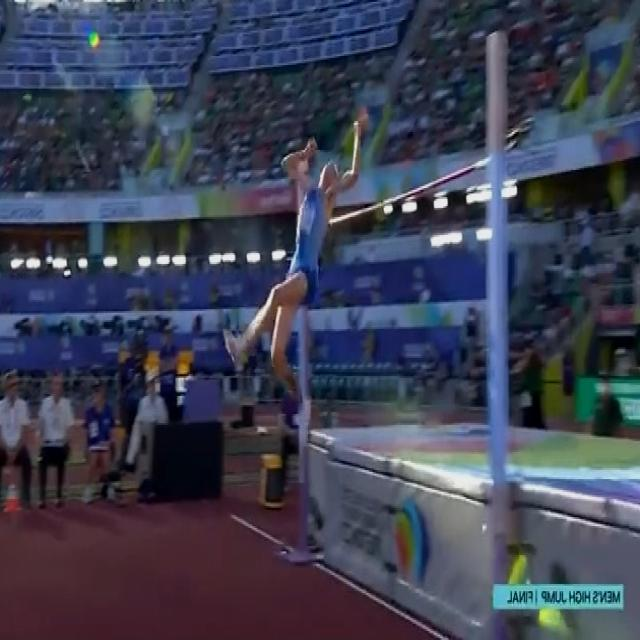jump: (223, 122, 361, 437)
